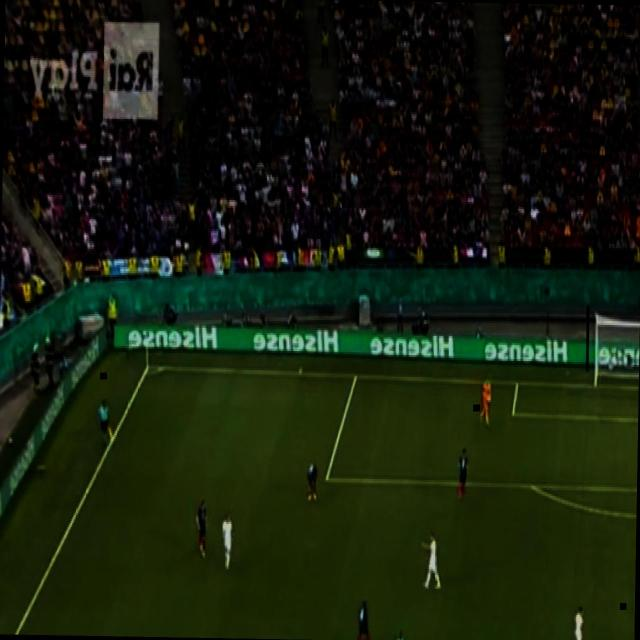player-white: (419, 527, 443, 593), (194, 496, 210, 560), (476, 374, 494, 430), (219, 509, 235, 572), (356, 595, 374, 640), (456, 446, 470, 502), (97, 395, 111, 451), (305, 461, 320, 505), (571, 604, 587, 640), (393, 625, 409, 640)
